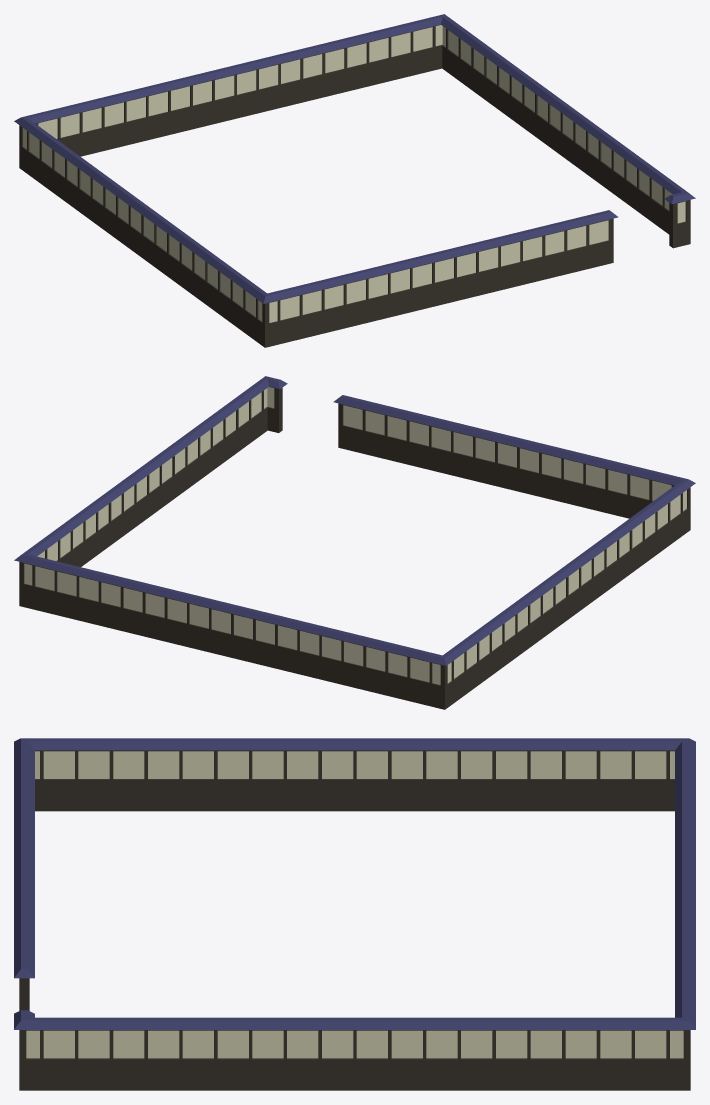
File: OuterWalls.fbx
3 renders of one model, top to bottom at view 1: azimuth 30°, elevation 25°; view 2: azimuth 150°, elevation 25°; view 3: azimuth 270°, elevation 25°, orthographic. The views are drawn at different scales.
Visible parts, largest first — view 1: OuterWall; view 2: OuterWall; view 3: OuterWall.
Part boxes in pixels (bbox=[...]): OuterWall: bbox=[14, 14, 695, 347]; OuterWall: bbox=[14, 376, 695, 709]; OuterWall: bbox=[14, 738, 695, 1090].
Size of the model in its own units: 1960 by 220 by 1960.
